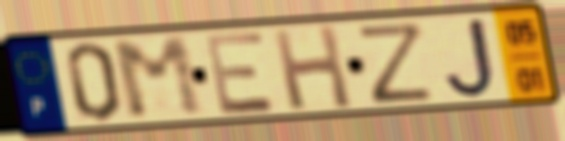0: (63, 39, 126, 126)
E: (201, 28, 281, 118)
H: (269, 21, 357, 113)
J: (442, 16, 499, 102)
M: (107, 33, 210, 123)
Z: (354, 19, 438, 107)
